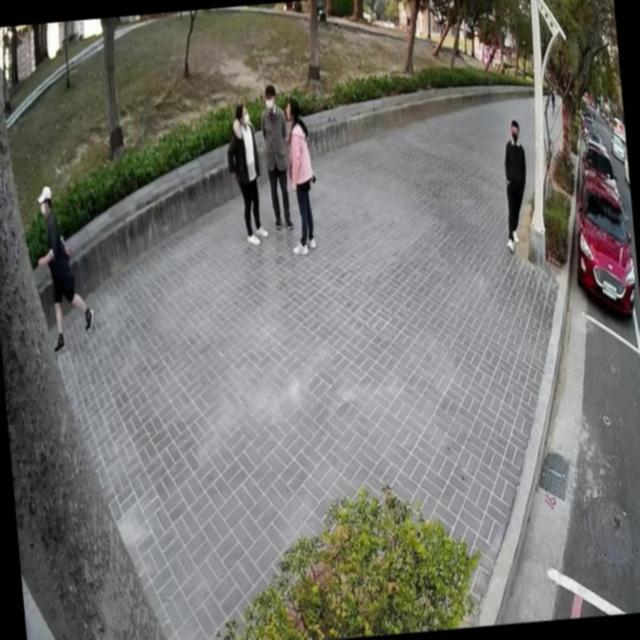person: (27, 178, 98, 356), (274, 90, 324, 258), (220, 95, 270, 248), (492, 112, 535, 258), (256, 81, 296, 231)
